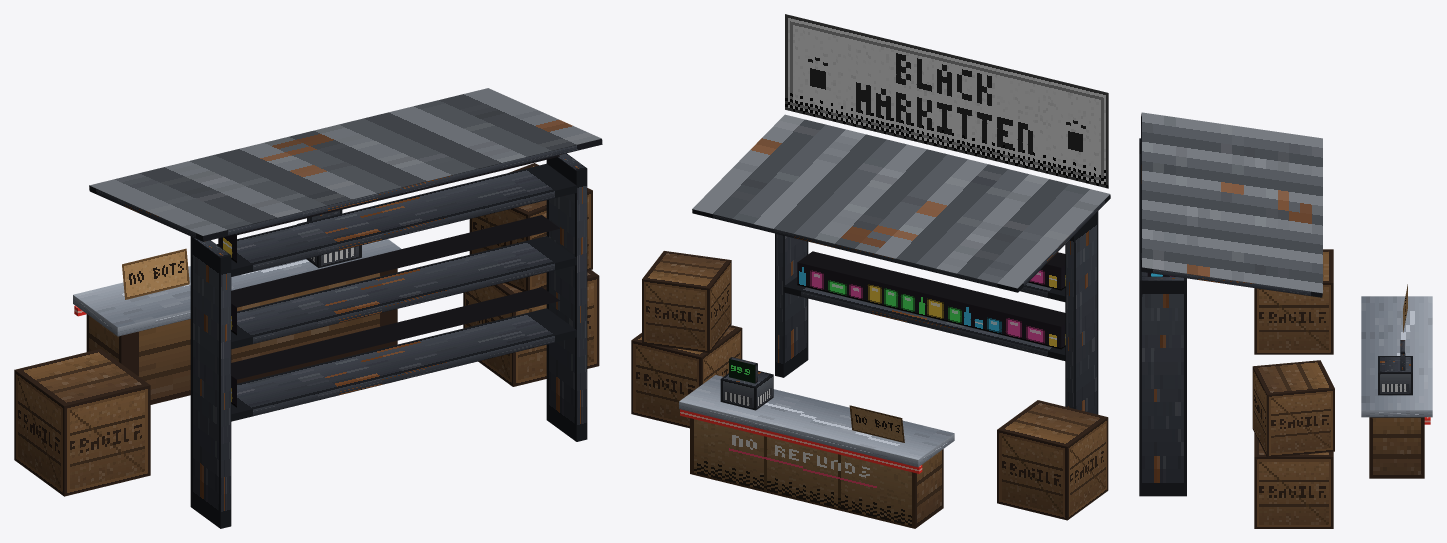
File: black_markitten.glb
3 renders of one model, left to right at view 1: azimuth 30°, elevation 25°; view 2: azimuth 150°, elevation 25°; view 3: azimuth 270°, elevation 25°, orthographic. The views are drawn at different scales.
Parts seen in each view (by area): view 1: Body, Goods; view 2: Body, Banner, Goods, Strip, Screen; view 3: Body.
Boxes of the visible parts, x1,y1,x2,y2 form: Body: [14, 88, 602, 528]; Goods: [218, 155, 560, 407]; Body: [631, 114, 1110, 528]; Banner: [785, 14, 1108, 188]; Goods: [797, 251, 1065, 349]; Strip: [680, 409, 922, 473]; Screen: [729, 357, 757, 383]; Body: [1139, 112, 1432, 528].
Bounding box in the file's own units: 6.22 × 4.65 × 3.7.
Materials: 1 (1 with a texture image).
